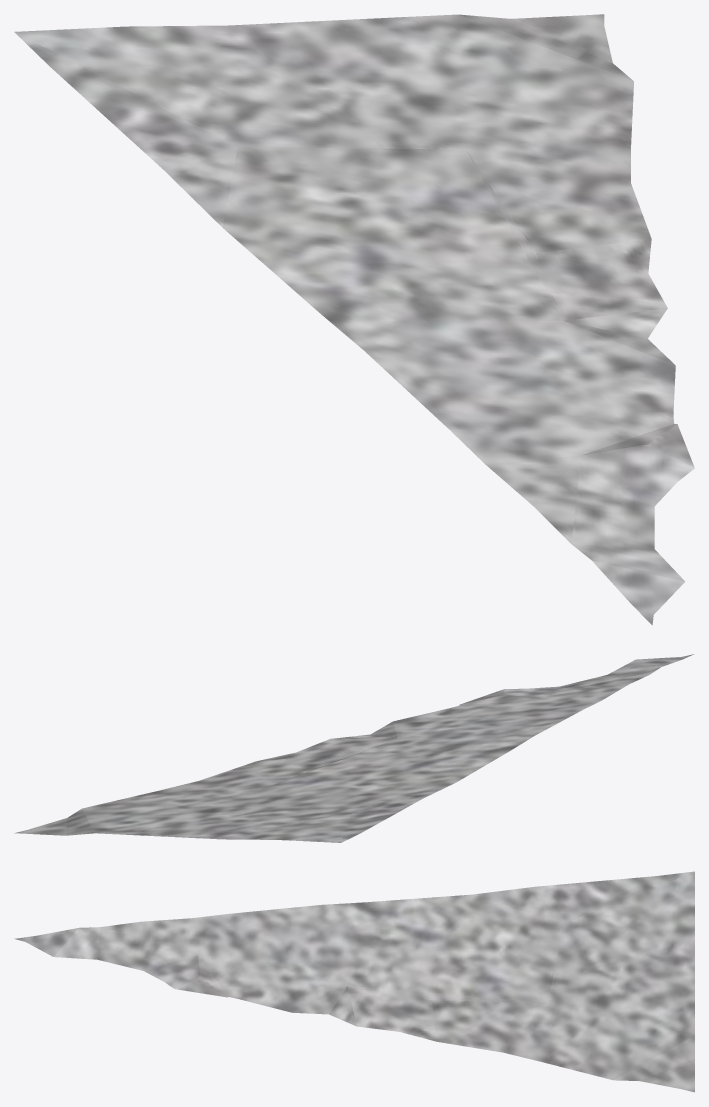
3 renders of one model, top to bottom at view 1: azimuth 30°, elevation 25°; view 2: azimuth 150°, elevation 25°; view 3: azimuth 270°, elevation 25°, orthographic. The views are drawn at different scales.
Bounding box in the file's own units: 0.4373 × 0.0895 × 0.8192.
Materials: 1 (1 with a texture image).
